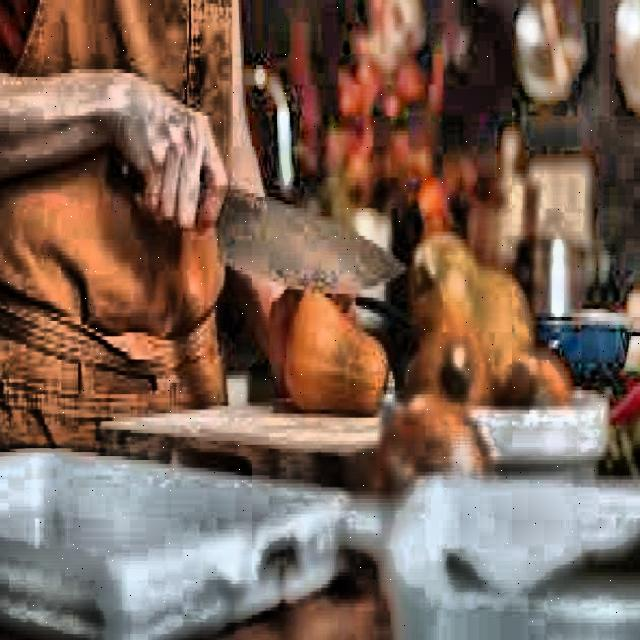knife: (115, 141, 407, 301)
